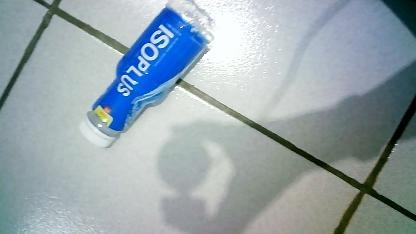Plastic Bottle: (79, 0, 218, 152)
